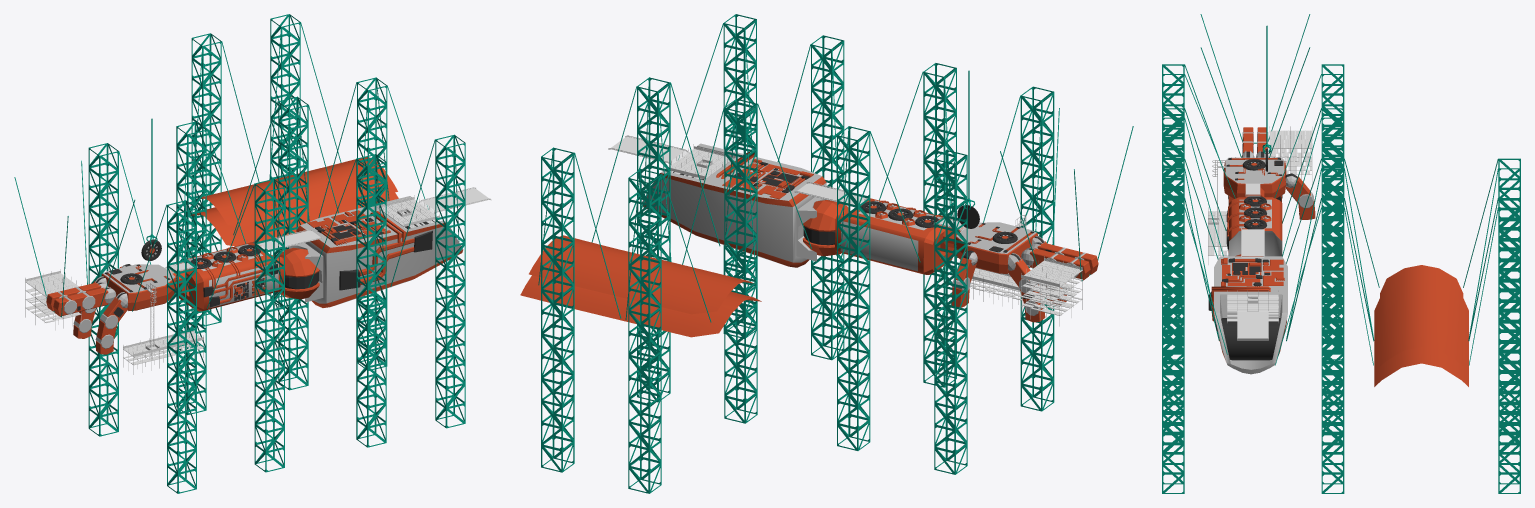
File: BigMechArm.fbx
3 views of the same model, side by side, from view 1: azimuth 30°, elevation 25°; view 2: azimuth 150°, elevation 25°; view 3: azimuth 270°, elevation 25° (orthographic). The views are drawn at different scales.
Parts seen in each view (by area): view 1: Towers, YOKAI_BOSS_TENGU_SHOULDER_R, YOKAI_BOSS_TENGU_SHOULDER_R.001, Walkways, YOKAI_BOSS_TENGU_RIGTH_ARM, Palm, Ring1, Walkways.001; view 2: Towers, YOKAI_BOSS_TENGU_SHOULDER_R, YOKAI_BOSS_TENGU_SHOULDER_R.001, Walkways, YOKAI_BOSS_TENGU_RIGTH_ARM, Palm, Ring1, Walkways.001; view 3: Towers, YOKAI_BOSS_TENGU_SHOULDER_R.001, YOKAI_BOSS_TENGU_SHOULDER_R, Walkways, YOKAI_BOSS_TENGU_RIGTH_ARM, Palm, Ring1, Thumb1, Thumb2.
Boxes of the visible parts, bbox=[...] form: Towers: bbox=[14, 14, 465, 493]; YOKAI_BOSS_TENGU_SHOULDER_R: bbox=[278, 196, 463, 307]; YOKAI_BOSS_TENGU_SHOULDER_R.001: bbox=[190, 157, 398, 246]; Walkways: bbox=[25, 187, 491, 374]; YOKAI_BOSS_TENGU_RIGTH_ARM: bbox=[177, 241, 283, 311]; Palm: bbox=[101, 264, 187, 310]; Ring1: bbox=[46, 282, 116, 316]; Walkways.001: bbox=[25, 197, 439, 356]; Towers: bbox=[538, 14, 1133, 493]; YOKAI_BOSS_TENGU_SHOULDER_R: bbox=[642, 143, 848, 267]; YOKAI_BOSS_TENGU_SHOULDER_R.001: bbox=[520, 235, 761, 337]; Walkways: bbox=[608, 135, 1082, 326]; YOKAI_BOSS_TENGU_RIGTH_ARM: bbox=[835, 198, 954, 274]; Palm: bbox=[943, 222, 1037, 273]; Ring1: bbox=[1021, 242, 1098, 280]; Walkways.001: bbox=[665, 146, 1082, 290]; Towers: bbox=[1162, 14, 1520, 493]; YOKAI_BOSS_TENGU_SHOULDER_R.001: bbox=[1374, 265, 1468, 386]; YOKAI_BOSS_TENGU_SHOULDER_R: bbox=[1208, 254, 1287, 374]; Walkways: bbox=[1208, 126, 1312, 340]; YOKAI_BOSS_TENGU_RIGTH_ARM: bbox=[1226, 196, 1282, 256]; Palm: bbox=[1223, 157, 1286, 198]; Ring1: bbox=[1241, 127, 1268, 157]; Thumb1: bbox=[1285, 173, 1310, 203]; Thumb2: bbox=[1298, 192, 1315, 219].
Size of the model in its own units: 173 by 251 by 180.
